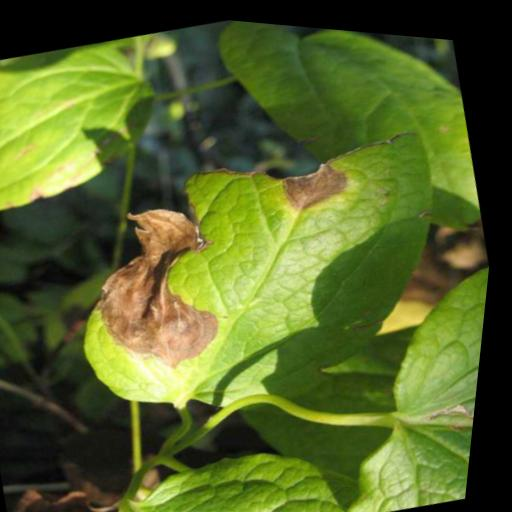Bacterial Spot: (40, 92, 490, 455), (0, 21, 184, 238)
